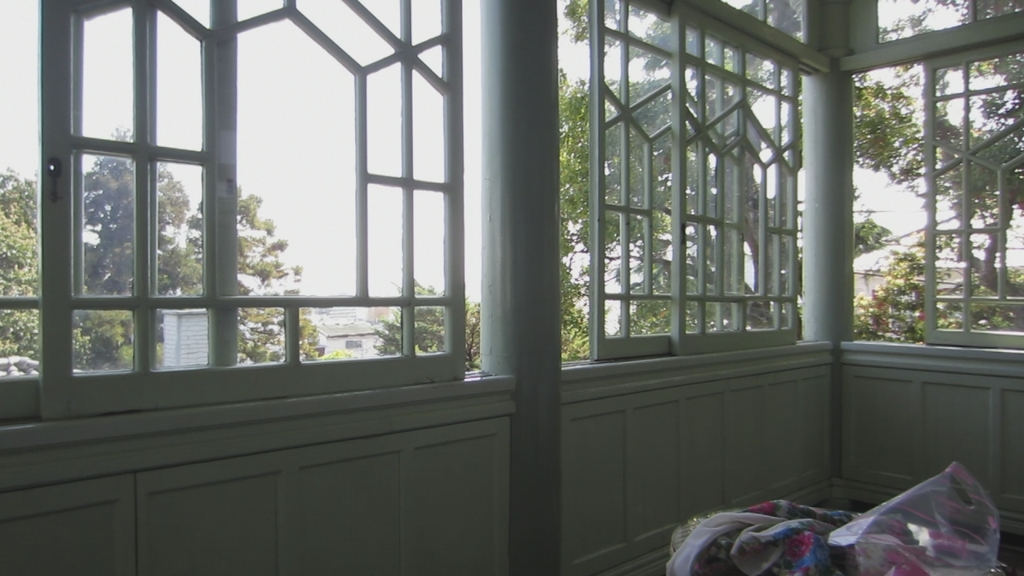Tree: (0, 0, 1024, 369)
